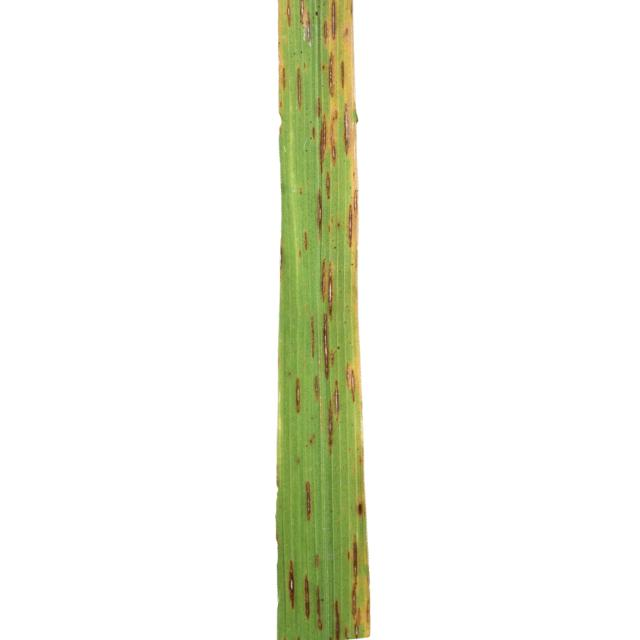Narrow brown: (236, 0, 462, 640)
